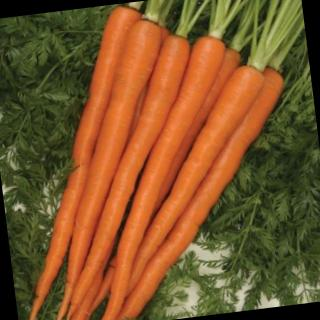Wortel: (62, 35, 259, 320), (36, 35, 223, 319), (24, 18, 197, 320), (104, 65, 291, 294)
